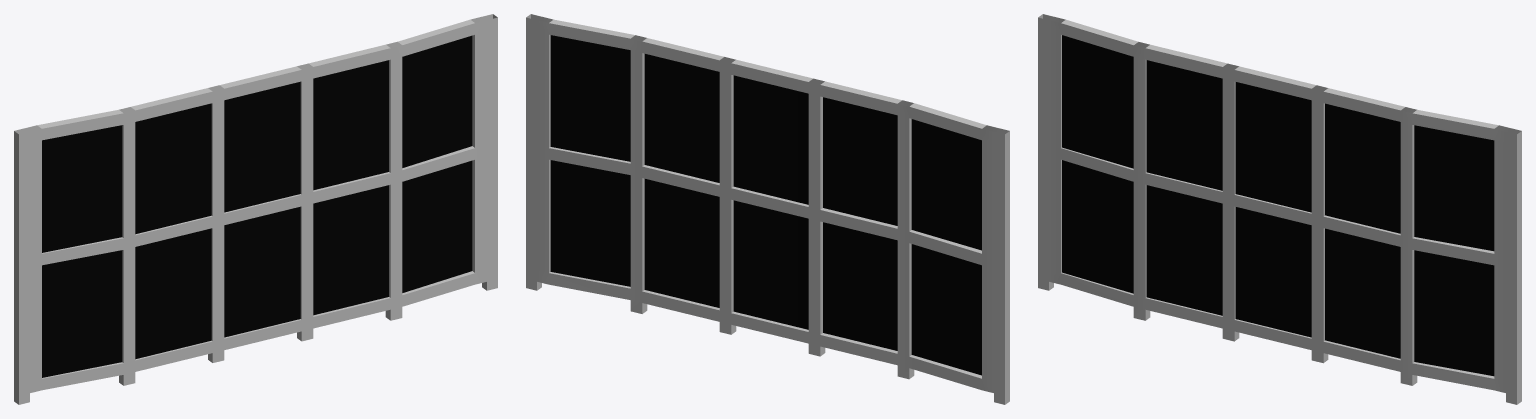
The model's file is ElevatorGuard.fbx.
3 renders of one model, left to right at view 1: azimuth 30°, elevation 25°; view 2: azimuth 150°, elevation 25°; view 3: azimuth 330°, elevation 25°, orthographic.
Parts seen in each view (by area): view 1: Cube.002; view 2: Cube.002; view 3: Cube.002.
Boxes of the visible parts, x1=… form: Cube.002: x1=14, y1=14, x2=497, y2=404; Cube.002: x1=526, y1=14, x2=1009, y2=404; Cube.002: x1=1038, y1=14, x2=1521, y2=404.
Size of the model in its own units: 483 by 263 by 16.4.
